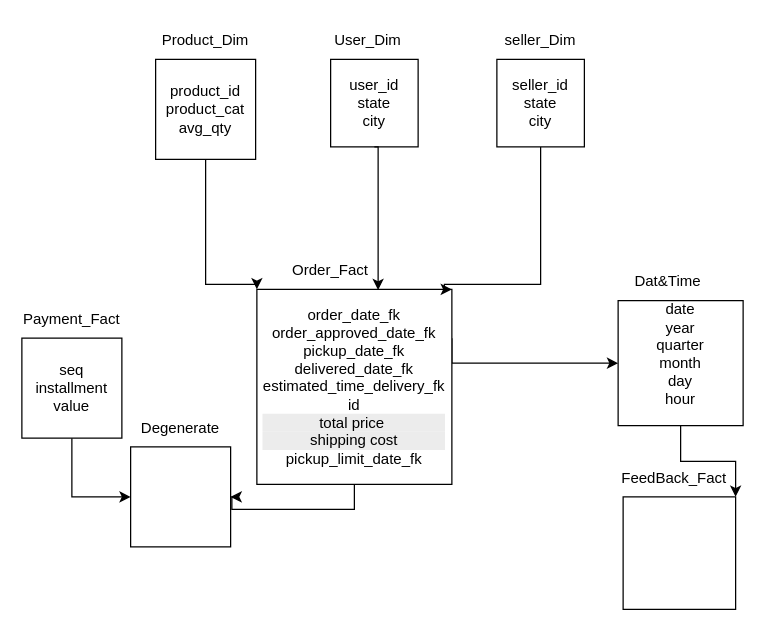
The diagram is 768 pixels wide and 631 high, and some of its shapes have lost their labels. Here are the shapes that lost their labels. From the top down, the centre of each, then its label:
At (x=180, y=496): "id order_status payment_type".
At (x=679, y=552): "avg_feedscore user_id seller_id".
